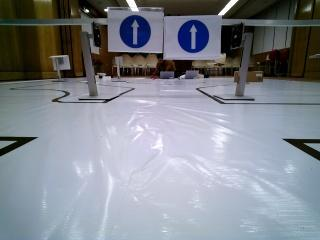straight: (166, 15, 221, 57), (112, 8, 163, 52)
